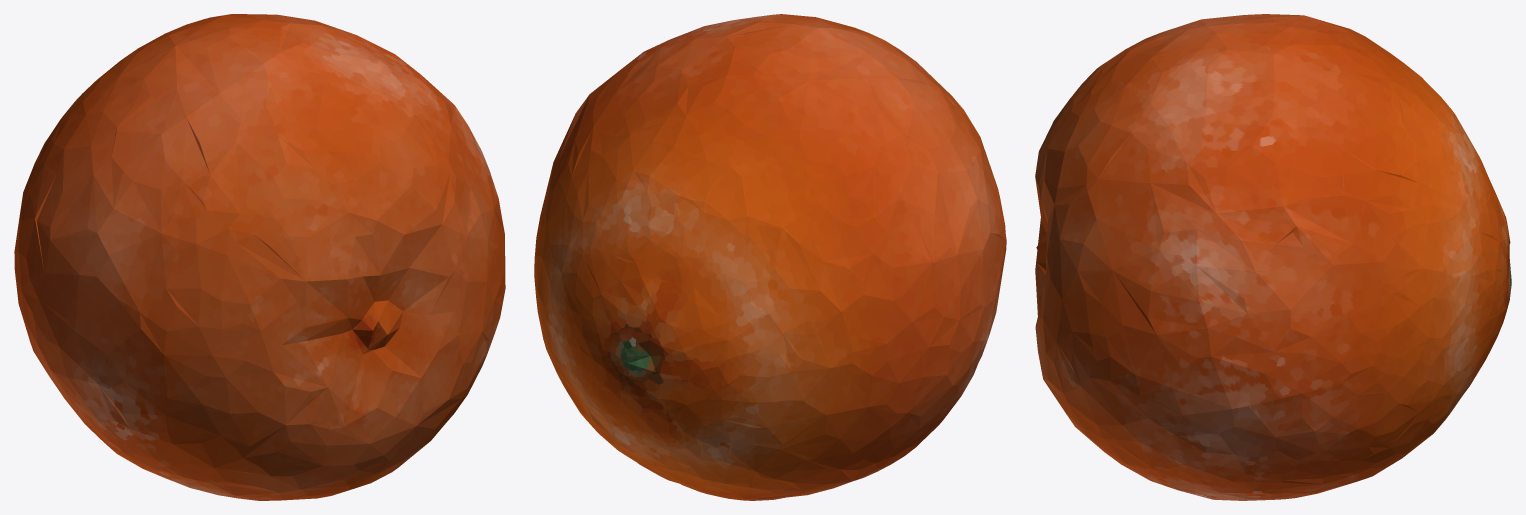
The model's file is ycb_orange_metric_fp.obj.
The picture shows the model from 3 angles, left to right: view 1: azimuth 30°, elevation 25°; view 2: azimuth 150°, elevation 25°; view 3: azimuth 270°, elevation 25°; orthographic projection.
Size of the model in its own units: 0.0723 by 0.074 by 0.0716.
Materials: 1 (1 with a texture image).
